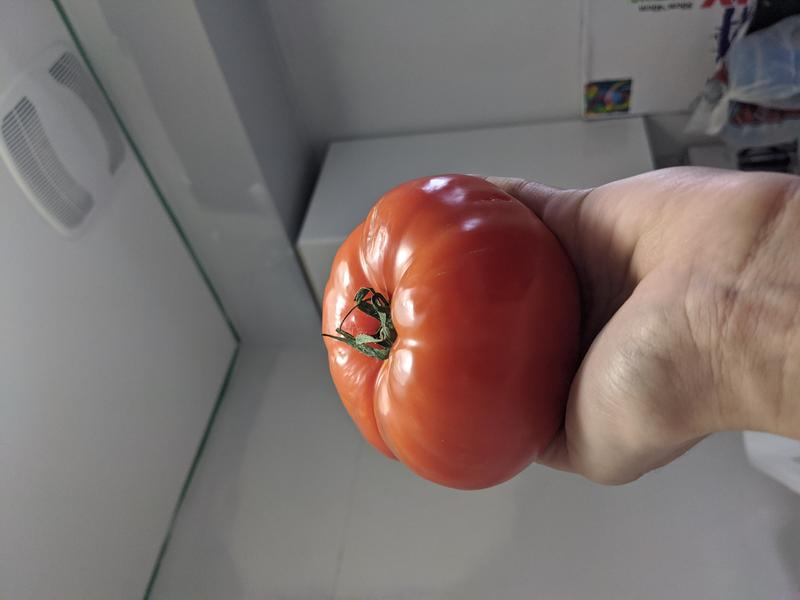tomato: (319, 174, 585, 492)
